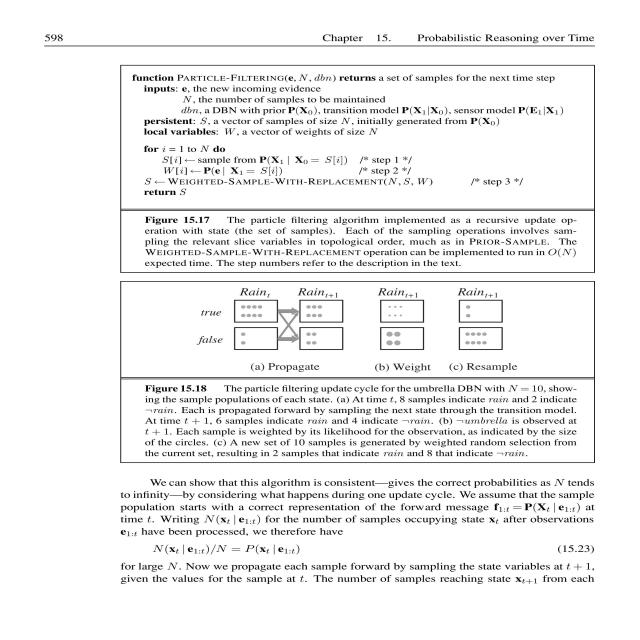diagram: (136, 210, 550, 373)
